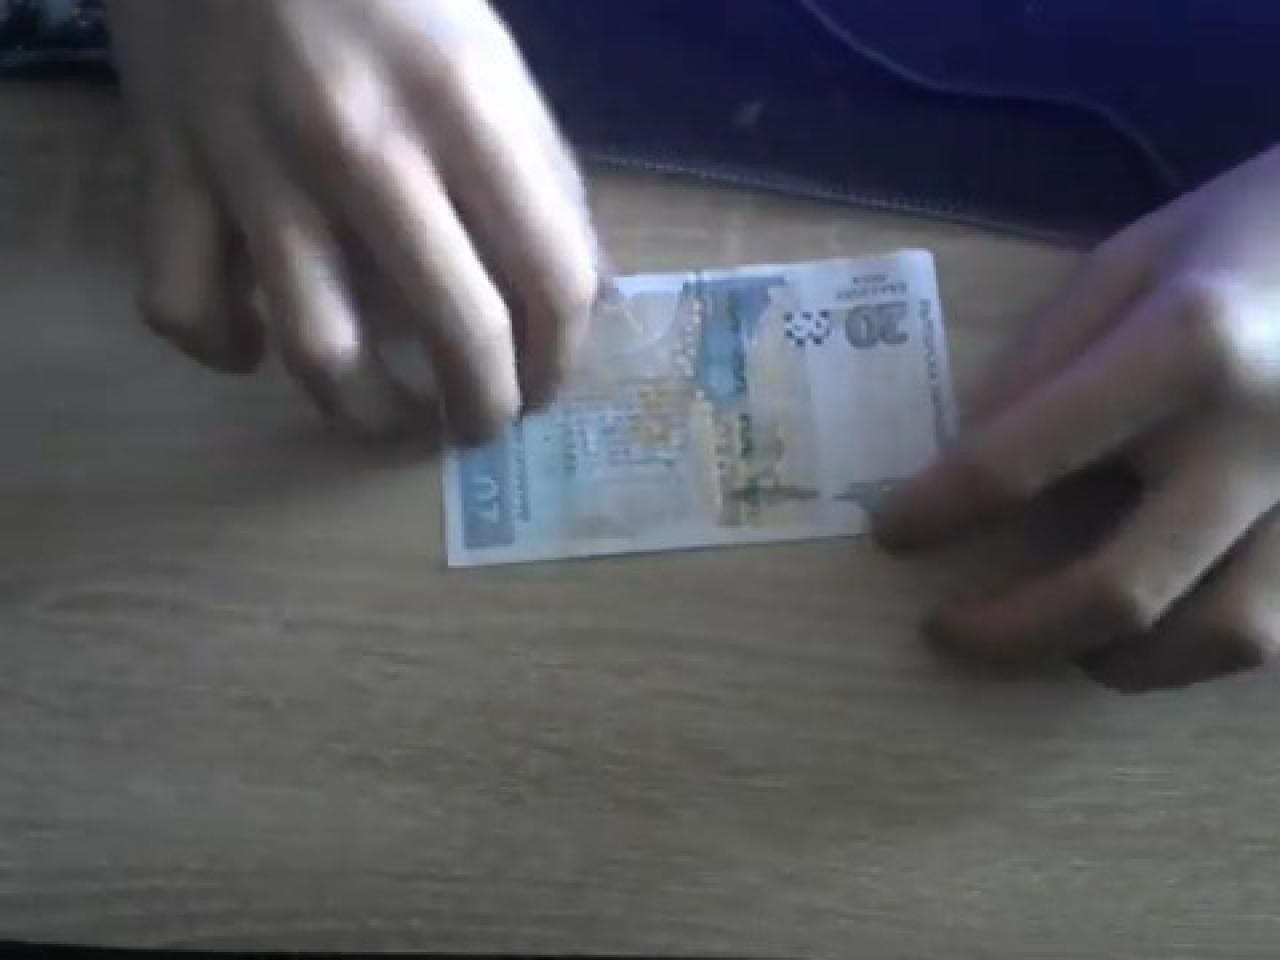20leva: (437, 242, 959, 571)
